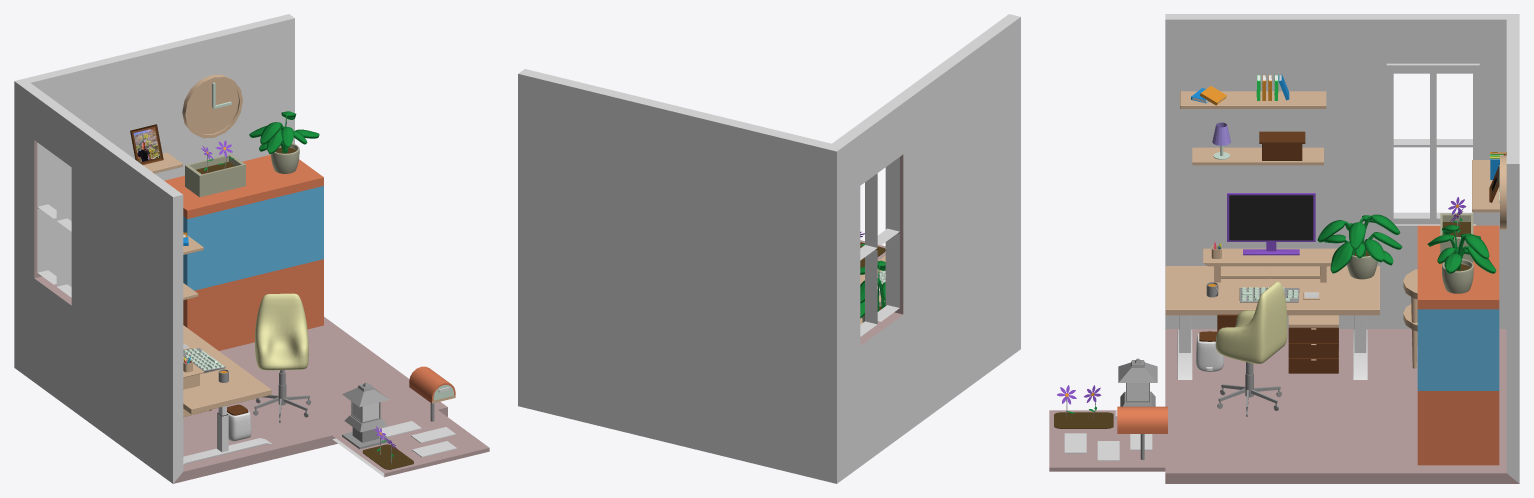
The model's file is Final-Room.glb.
3 renders of one model, left to right at view 1: azimuth 30°, elevation 25°; view 2: azimuth 150°, elevation 25°; view 3: azimuth 270°, elevation 25°, orthographic. The views are drawn at different scales.
Visible parts, largest first — view 1: Walls, Cube.062, AquaGlass, Walls.001, Cube.055, Plane, Table Top, Cylinder.010, Cube.075, Plane.004, Cylinder.011, Plane.006 (+5 smaller); view 2: Walls, Plane; view 3: Walls, Cube.062, Table Top, AquaGlass, Plane, Walls.001, Screen, Cube.055, Table Top.002, Table Drawer.001, Table Top.006, Table Top.005 (+14 smaller).
Boxes of the visible parts, x1=… form: Walls: x1=14, y1=14, x2=447, y2=483; Cube.062: x1=164, y1=154, x2=323, y2=350; AquaGlass: x1=183, y1=186, x2=323, y2=290; Walls.001: x1=324, y1=403, x2=489, y2=477; Cube.055: x1=255, y1=293, x2=308, y2=370; Plane: x1=37, y1=143, x2=71, y2=297; Table Top: x1=183, y1=325, x2=271, y2=414; Cylinder.010: x1=182, y1=75, x2=242, y2=138; Cube.075: x1=185, y1=154, x2=245, y2=197; Plane.004: x1=342, y1=382, x2=389, y2=449; Cylinder.011: x1=409, y1=366, x2=455, y2=403; Plane.006: x1=130, y1=124, x2=163, y2=164; Walls: x1=518, y1=14, x2=1020, y2=483; Plane: x1=860, y1=157, x2=899, y2=336; Walls: x1=1165, y1=14, x2=1519, y2=483; Cube.062: x1=1417, y1=225, x2=1499, y2=465; Table Top: x1=1165, y1=266, x2=1379, y2=315; AquaGlass: x1=1417, y1=309, x2=1499, y2=390; Plane: x1=1386, y1=63, x2=1479, y2=229; Walls.001: x1=1049, y1=410, x2=1184, y2=471; Screen: x1=1229, y1=195, x2=1313, y2=240; Cube.055: x1=1215, y1=281, x2=1287, y2=364; Table Top.002: x1=1203, y1=248, x2=1337, y2=282; Table Drawer.001: x1=1288, y1=327, x2=1338, y2=373; Table Top.006: x1=1180, y1=91, x2=1326, y2=108; Table Top.005: x1=1192, y1=147, x2=1323, y2=165.
Bounding box in the file's own units: 11.9 × 11.85 × 15.79.
Materials: 27 (1 with a texture image).
